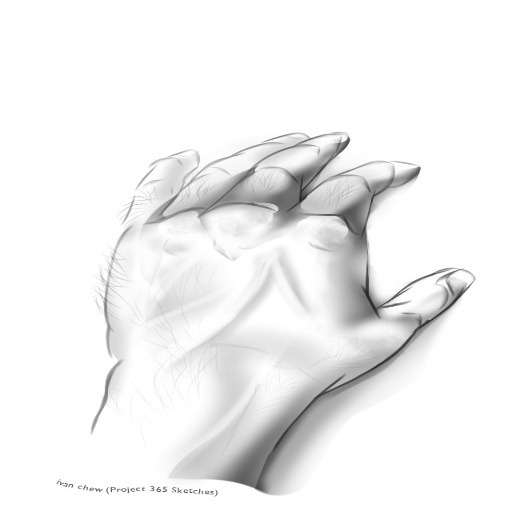hand: (92, 136, 487, 489)
